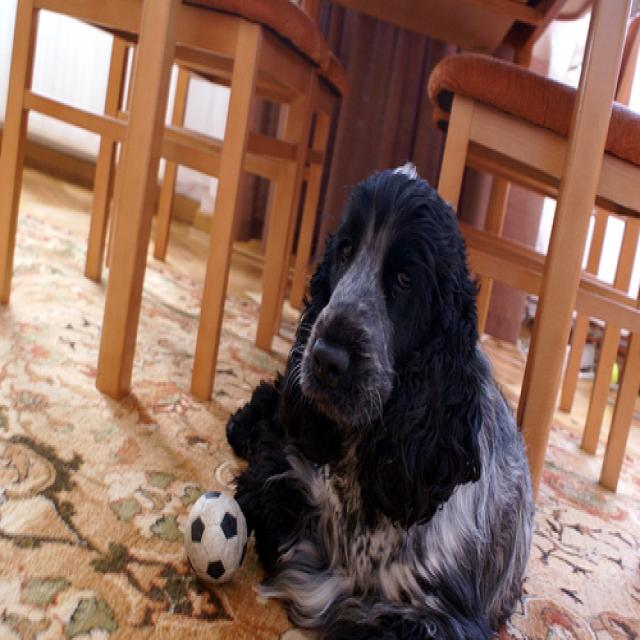dog-english_cocker_spaniel: (219, 153, 544, 636)
